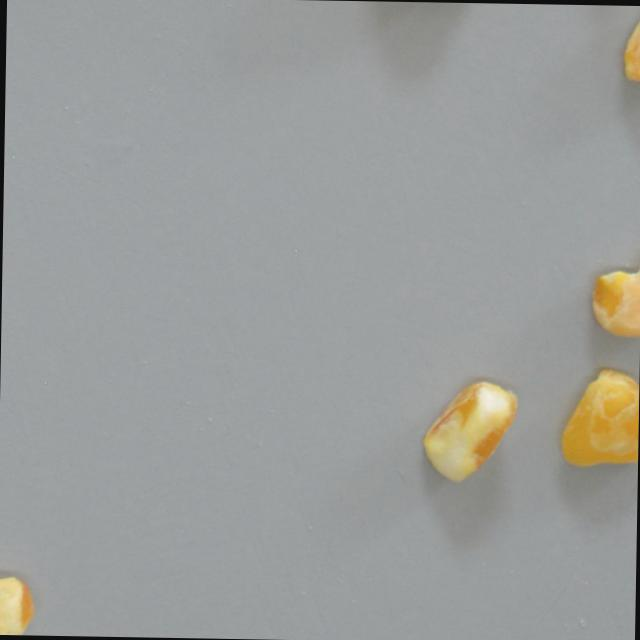dañado: (588, 242, 640, 341)
pelicula: (417, 374, 522, 483), (557, 364, 639, 472), (0, 576, 38, 635), (618, 5, 640, 90)
